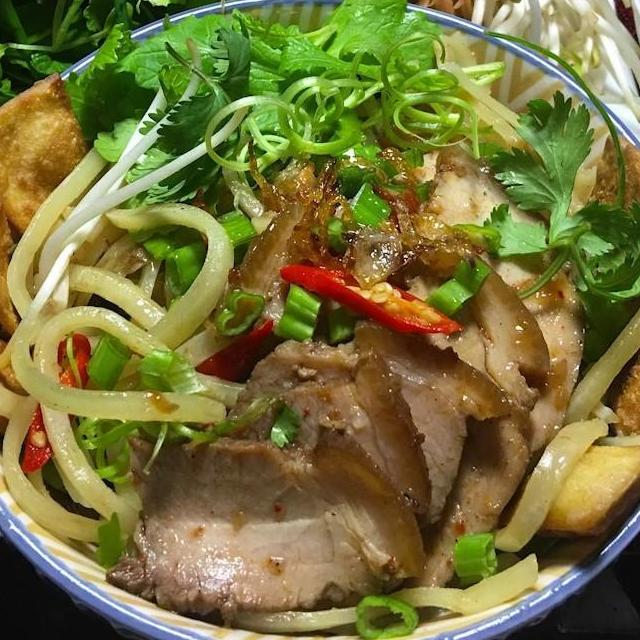banh da: (0, 67, 98, 249), (494, 436, 640, 539), (574, 127, 640, 273), (605, 282, 640, 447), (0, 303, 42, 438), (0, 191, 36, 345)
mi: (0, 126, 254, 543), (479, 267, 640, 557), (226, 546, 545, 640), (417, 22, 545, 162)
mi quang: (0, 43, 640, 640)
thit heo: (367, 232, 555, 598), (96, 426, 430, 632), (416, 148, 588, 458), (207, 330, 436, 524), (332, 308, 514, 524)
